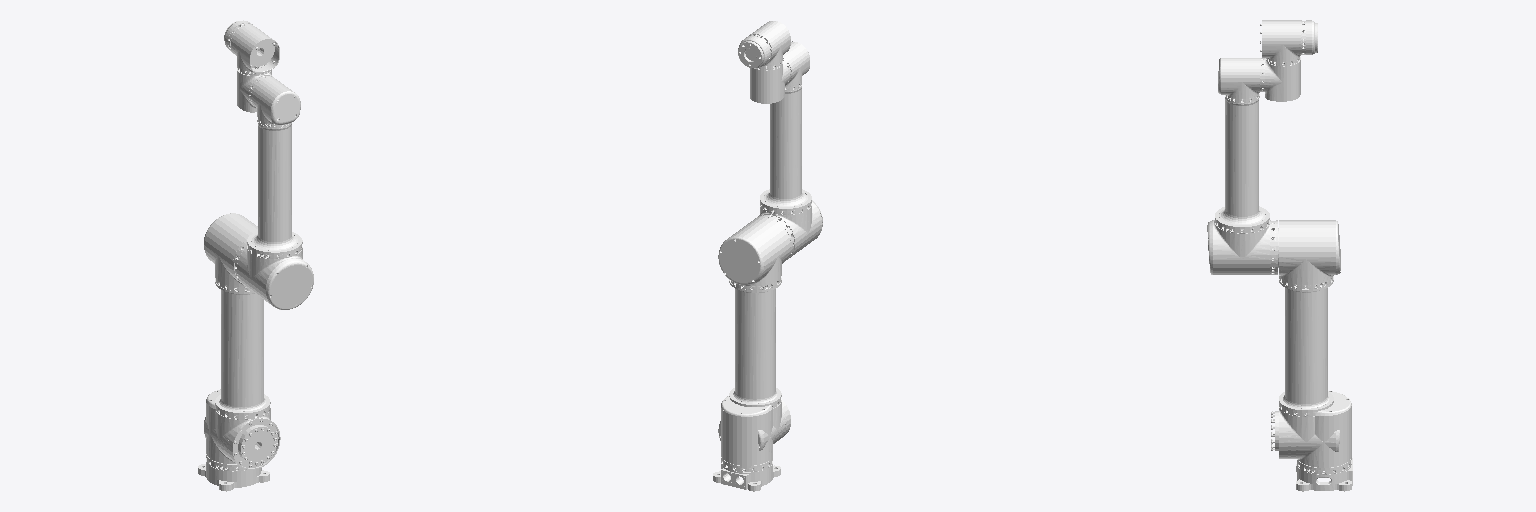
URDF robot description (ebot_URDF):
<?xml version="1.0" encoding="utf-8"?>
<!-- This URDF was automatically created by SolidWorks to URDF Exporter! Originally created by [author] ([email redacted]) 
     Commit Version: 1.6.0-4-g7f85cfe  Build Version: 1.6.7995.38578
     For more information, please see http://wiki.ros.org/sw_urdf_exporter -->
<robot
  name="ebot_URDF">
  <link
    name="base_link">
    <inertial>
      <origin
        xyz="-0.0013995 -0.00011554 0.021676"
        rpy="0 0 0" />
      <mass
        value="0.23063" />
      <inertia
        ixx="0.00039764"
        ixy="3.7249E-08"
        ixz="3.9569E-07"
        iyy="0.00037791"
        iyz="1.149E-06"
        izz="0.00066992" />
    </inertial>
    <visual>
      <origin
        xyz="0 0 0"
        rpy="0 0 0" />
      <geometry>
        <mesh
          filename="package://ebot_URDF/meshes/base_link.STL" />
      </geometry>
      <material
        name="">
        <color
          rgba="1 1 1 1" />
      </material>
    </visual>
    <collision>
      <origin
        xyz="0 0 0"
        rpy="0 0 0" />
      <geometry>
        <mesh
          filename="package://ebot_URDF/meshes/base_link.STL" />
      </geometry>
    </collision>
  </link>
  <link
    name="Link1">
    <inertial>
      <origin
        xyz="1.5078E-05 0.0058936 -0.0074207"
        rpy="0 0 0" />
      <mass
        value="1.0673" />
      <inertia
        ixx="0.0021382"
        ixy="7.8934E-07"
        ixz="-6.6429E-07"
        iyy="0.0020327"
        iyz="-5.7291E-05"
        izz="0.0020386" />
    </inertial>
    <visual>
      <origin
        xyz="0 0 0"
        rpy="0 0 0" />
      <geometry>
        <mesh
          filename="package://ebot_URDF/meshes/Link1.STL" />
      </geometry>
      <material
        name="">
        <color
          rgba="1 1 1 1" />
      </material>
    </visual>
    <collision>
      <origin
        xyz="0 0 0"
        rpy="0 0 0" />
      <geometry>
        <mesh
          filename="package://ebot_URDF/meshes/Link1.STL" />
      </geometry>
    </collision>
  </link>
  <joint
    name="Joint1"
    type="revolute">
    <origin
      xyz="0 0 0.1123"
      rpy="0 0 3.1416" />
    <parent
      link="base_link" />
    <child
      link="Link1" />
    <axis
      xyz="0 0 1" />
    <limit
      lower="-3.14"
      upper="3.14"
      effort="100"
      velocity="1" />
  </joint>
  <link
    name="Link2">
    <inertial>
      <origin
        xyz="0.2125 -1.4012E-06 0.042477"
        rpy="0 0 0" />
      <mass
        value="2.6809" />
      <inertia
        ixx="0.0050406"
        ixy="-1.5701E-06"
        ixz="-3.3669E-10"
        iyy="0.0097991"
        iyz="1.4177E-07"
        izz="0.0096003" />
    </inertial>
    <visual>
      <origin
        xyz="0 0 0"
        rpy="0 0 0" />
      <geometry>
        <mesh
          filename="package://ebot_URDF/meshes/Link2.STL" />
      </geometry>
      <material
        name="">
        <color
          rgba="1 1 1 1" />
      </material>
    </visual>
    <collision>
      <origin
        xyz="0 0 0"
        rpy="0 0 0" />
      <geometry>
        <mesh
          filename="package://ebot_URDF/meshes/Link2.STL" />
      </geometry>
    </collision>
  </link>
  <joint
    name="Joint2"
    type="revolute">
    <origin
      xyz="0 0.0856 0"
      rpy="1.5708 -1.5708 0" />
    <parent
      link="Link1" />
    <child
      link="Link2" />
    <axis
      xyz="0 0 1" />
    <limit
      lower="-3.14"
      upper="3.14"
      effort="100"
      velocity="1" />
  </joint>
  <link
    name="Link3">
    <inertial>
      <origin
        xyz="0.12507 -6.1834E-06 0.083024"
        rpy="0 0 0" />
      <mass
        value="1.7008" />
      <inertia
        ixx="0.0022581"
        ixy="-5.8809E-07"
        ixz="2.4059E-05"
        iyy="0.0062861"
        iyz="3.4436E-07"
        izz="0.0068093" />
    </inertial>
    <visual>
      <origin
        xyz="0 0 0"
        rpy="0 0 0" />
      <geometry>
        <mesh
          filename="package://ebot_URDF/meshes/Link3.STL" />
      </geometry>
      <material
        name="">
        <color
          rgba="1 1 1 1" />
      </material>
    </visual>
    <collision>
      <origin
        xyz="0 0 0"
        rpy="0 0 0" />
      <geometry>
        <mesh
          filename="package://ebot_URDF/meshes/Link3.STL" />
      </geometry>
    </collision>
  </link>
  <joint
    name="Joint3"
    type="revolute">
    <origin
      xyz="0.425 0 0"
      rpy="3.1416 0 0" />
    <parent
      link="Link2" />
    <child
      link="Link3" />
    <axis
      xyz="0 0 1" />
    <limit
      lower="-3.14"
      upper="3.14"
      effort="100"
      velocity="1" />
  </joint>
  <link
    name="Link4">
    <inertial>
      <origin
        xyz="-8.6901E-06 0.0037172 -0.0038524"
        rpy="0 0 0" />
      <mass
        value="0.28761" />
      <inertia
        ixx="0.00023923"
        ixy="-7.2712E-08"
        ixz="-2.0028E-08"
        iyy="0.00024428"
        iyz="-4.1201E-07"
        izz="0.00022445" />
    </inertial>
    <visual>
      <origin
        xyz="0 0 0"
        rpy="0 0 0" />
      <geometry>
        <mesh
          filename="package://ebot_URDF/meshes/Link4.STL" />
      </geometry>
      <material
        name="">
        <color
          rgba="1 1 1 1" />
      </material>
    </visual>
    <collision>
      <origin
        xyz="0 0 0"
        rpy="0 0 0" />
      <geometry>
        <mesh
          filename="package://ebot_URDF/meshes/Link4.STL" />
      </geometry>
    </collision>
  </link>
  <joint
    name="Joint4"
    type="revolute">
    <origin
      xyz="0.401 0 0"
      rpy="3.1416 0 1.5708" />
    <parent
      link="Link3" />
    <child
      link="Link4" />
    <axis
      xyz="0 0 -1" />
    <limit
      lower="-3.14"
      upper="3.14"
      effort="100"
      velocity="1" />
  </joint>
  <link
    name="Link5">
    <inertial>
      <origin
        xyz="8.6841E-06 -0.0037172 -0.0038524"
        rpy="0 0 0" />
      <mass
        value="0.28761" />
      <inertia
        ixx="0.00023923"
        ixy="-7.2883E-08"
        ixz="2.0249E-08"
        iyy="0.00024428"
        iyz="4.118E-07"
        izz="0.00022445" />
    </inertial>
    <visual>
      <origin
        xyz="0 0 0"
        rpy="0 0 0" />
      <geometry>
        <mesh
          filename="package://ebot_URDF/meshes/Link5.STL" />
      </geometry>
      <material
        name="">
        <color
          rgba="1 1 1 1" />
      </material>
    </visual>
    <collision>
      <origin
        xyz="0 0 0"
        rpy="0 0 0" />
      <geometry>
        <mesh
          filename="package://ebot_URDF/meshes/Link5.STL" />
      </geometry>
    </collision>
  </link>
  <joint
    name="Joint5"
    type="revolute">
    <origin
      xyz="0 0.086 0"
      rpy="-1.5708 0 0" />
    <parent
      link="Link4" />
    <child
      link="Link5" />
    <axis
      xyz="0 0 -1" />
    <limit
      lower="-3.14"
      upper="3.14"
      effort="100"
      velocity="1" />
  </joint>
  <link
    name="Link6">
    <inertial>
      <origin
        xyz="-0.00038478 0.00044421 -0.015145"
        rpy="0 0 0" />
      <mass
        value="0.084155" />
      <inertia
        ixx="3.9378E-05"
        ixy="-4.5518E-07"
        ixz="1.1343E-08"
        iyy="3.944E-05"
        iyz="-1.2158E-08"
        izz="6.5731E-05" />
    </inertial>
    <visual>
      <origin
        xyz="0 0 0"
        rpy="0 0 0" />
      <geometry>
        <mesh
          filename="package://ebot_URDF/meshes/Link6.STL" />
      </geometry>
      <material
        name="">
        <color
          rgba="1 1 1 1" />
      </material>
    </visual>
    <collision>
      <origin
        xyz="0 0 0"
        rpy="0 0 0" />
      <geometry>
        <mesh
          filename="package://ebot_URDF/meshes/Link6.STL" />
      </geometry>
    </collision>
  </link>
  <joint
    name="Joint6"
    type="revolute">
    <origin
      xyz="0.00025 -0.0725 -0.0003"
      rpy="1.5708 0 0" />
    <parent
      link="Link5" />
    <child
      link="Link6" />
    <axis
      xyz="0 0 -1" />
    <limit
      lower="-3.14"
      upper="3.14"
      effort="100"
      velocity="1" />
  </joint>
</robot>

--- Facts derived from the render (not from the file) ---
The picture shows the robot from 3 angles, left to right: view 1: azimuth 30°, elevation 25°; view 2: azimuth 150°, elevation 25°; view 3: azimuth 270°, elevation 25°; orthographic projection.
Robot: ebot_URDF — 7 links, 6 joints (6 revolute); root link base_link; default pose: every joint at zero.
Visible links, largest first — view 1: Link2, Link3, Link5, base_link, Link1, Link4; view 2: Link2, Link3, Link1, base_link, Link4, Link5, Link6; view 3: Link2, Link3, Link1, Link5, Link4, base_link, Link6.
Link boxes in pixels (x1,y1,x2,y2): Link2: (204,213,280,469); Link3: (233,77,313,309); Link5: (231,25,279,75); base_link: (198,454,269,491); Link1: (206,389,235,463); Link4: (237,64,273,112); Link2: (718,217,790,450); Link3: (755,41,822,259); Link1: (721,396,786,465); base_link: (713,457,780,491); Link4: (750,59,791,103); Link5: (750,21,790,69); Link6: (738,34,771,68); Link2: (1271,220,1340,458); Link3: (1207,58,1277,274); Link1: (1288,391,1351,467); Link5: (1260,20,1303,65); Link4: (1260,58,1300,101); base_link: (1296,457,1352,491); Link6: (1301,20,1317,54).
Size in the robot's own frame: 0.1182 by 0.3051 by 1.06 metres.
7 mesh visuals loaded from 7 distinct referenced files (7 binary STL).